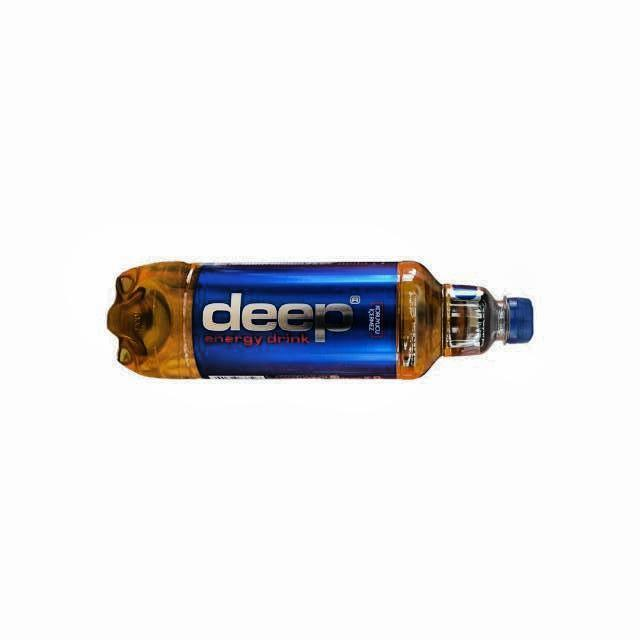plastic: (108, 261, 532, 378)
